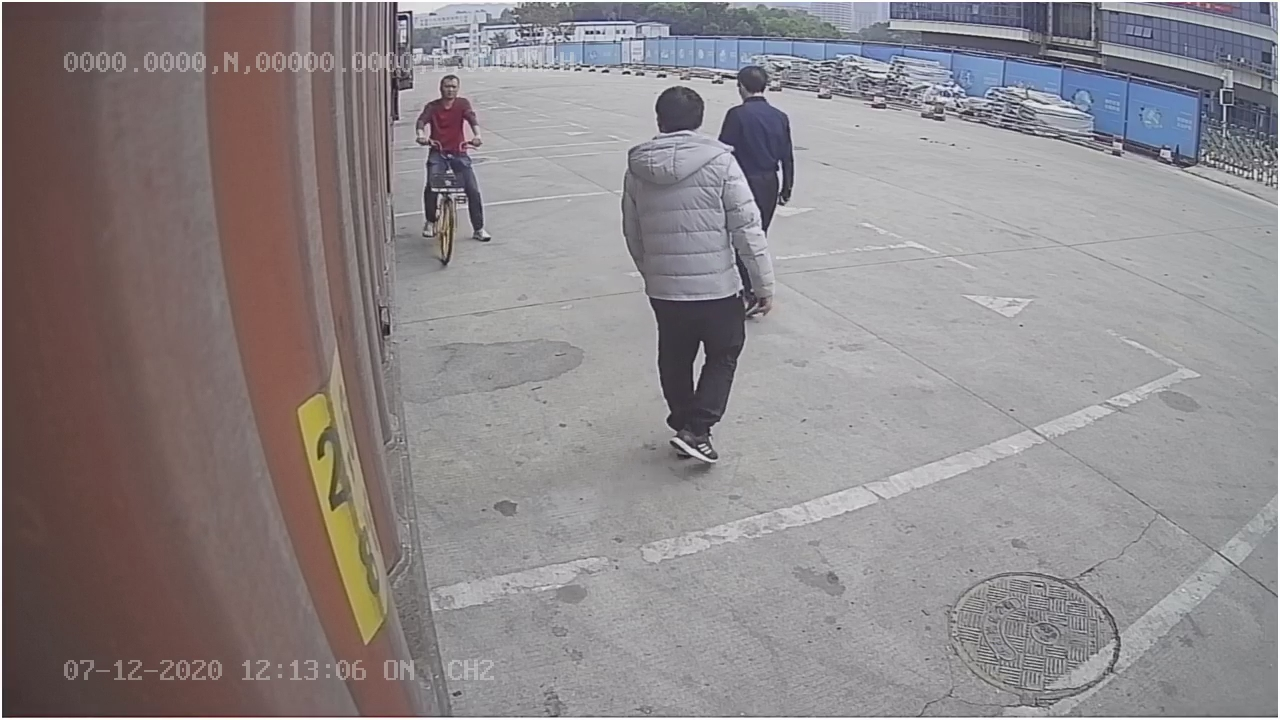person: (619, 86, 775, 462)
